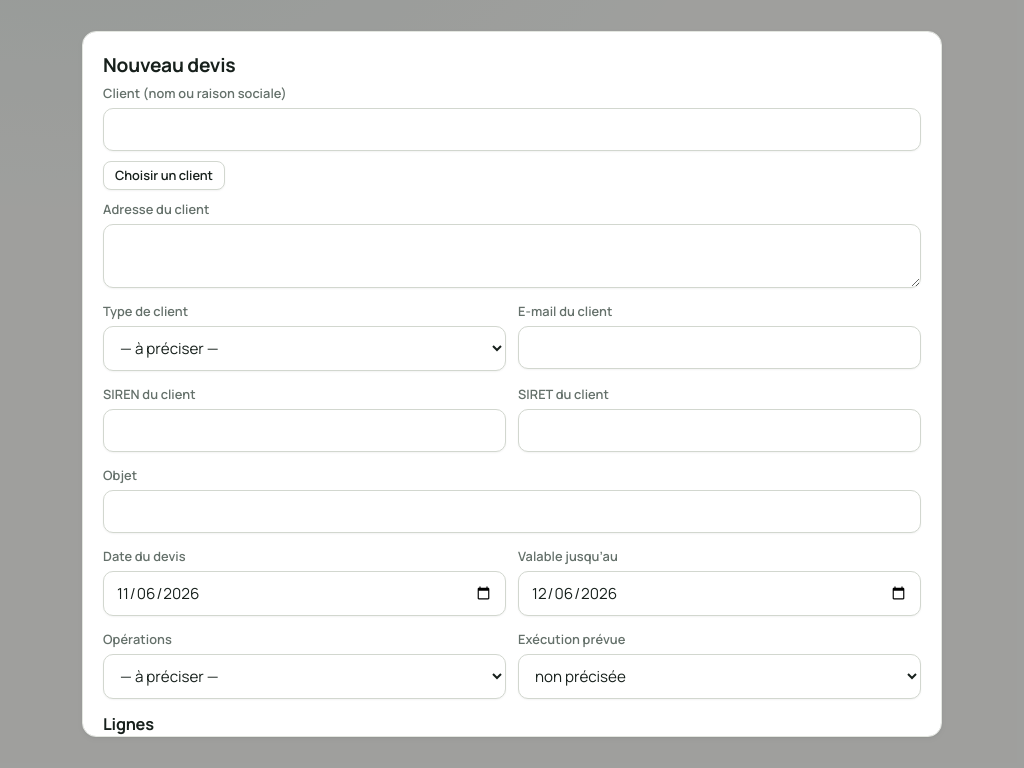
Test: drapeau levé › la fenêtre ne dit aucune échéance (notion de facture), mais garde le délai
The width and height of the screenshot is (1024, 768).
Step 1. Click the button "Choisir un client" → click(164, 175), box [103, 161, 225, 190]
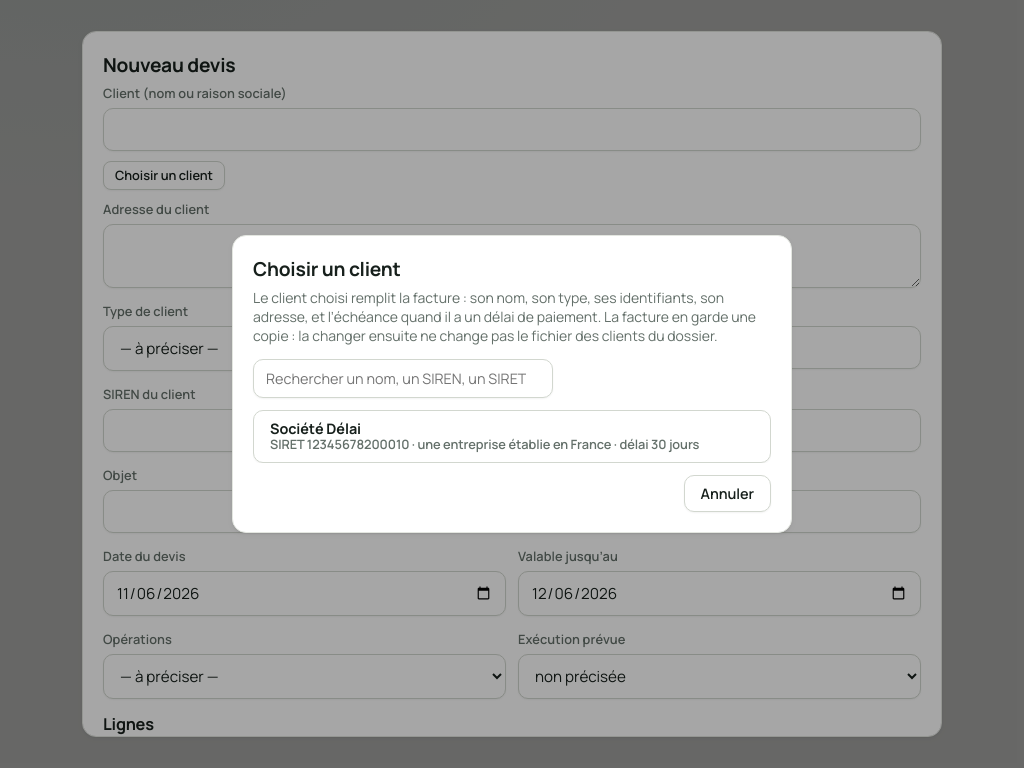
Check: the button "Société Délai" shows "délai 30 jours", box [253, 410, 771, 463]
